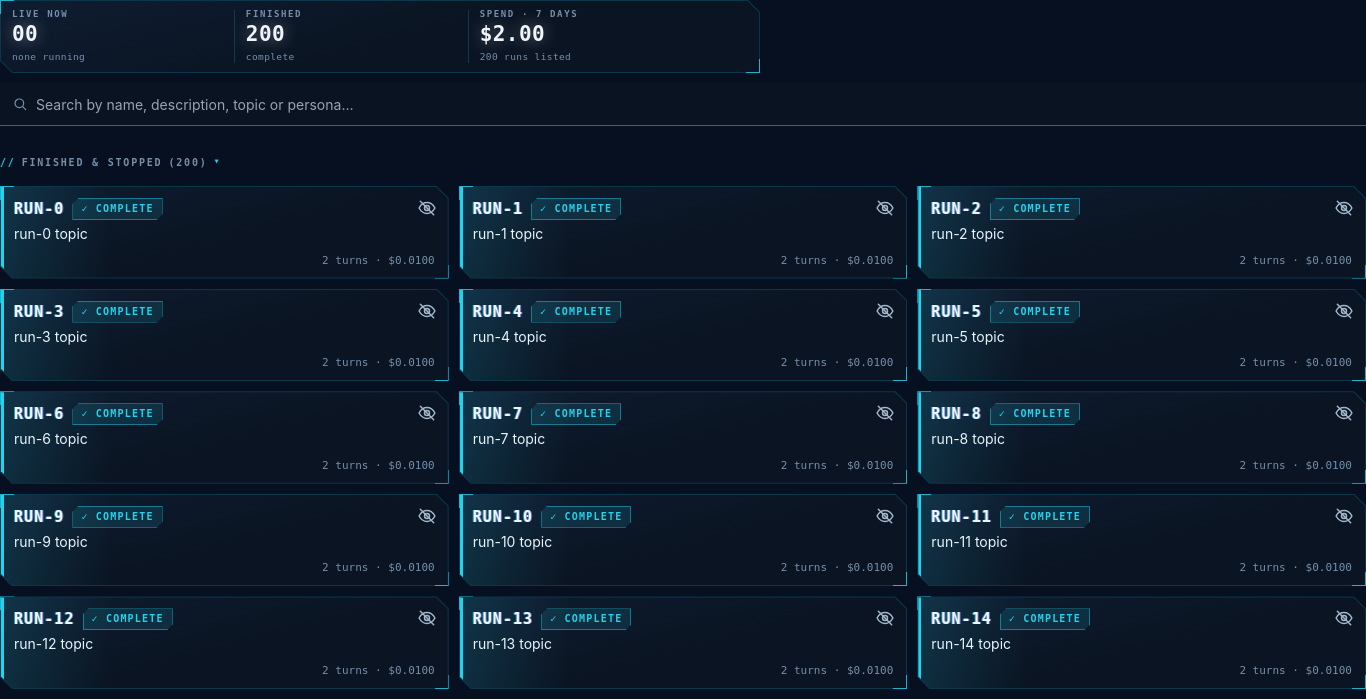
hidden runs are left out by default › from the server search a full list falls back on
Expected: the text "run-0" is shown, [14,200,64,218]
Type "old" into the search field at {"x": 695, "y": 104}, box [36,83,1354,125]
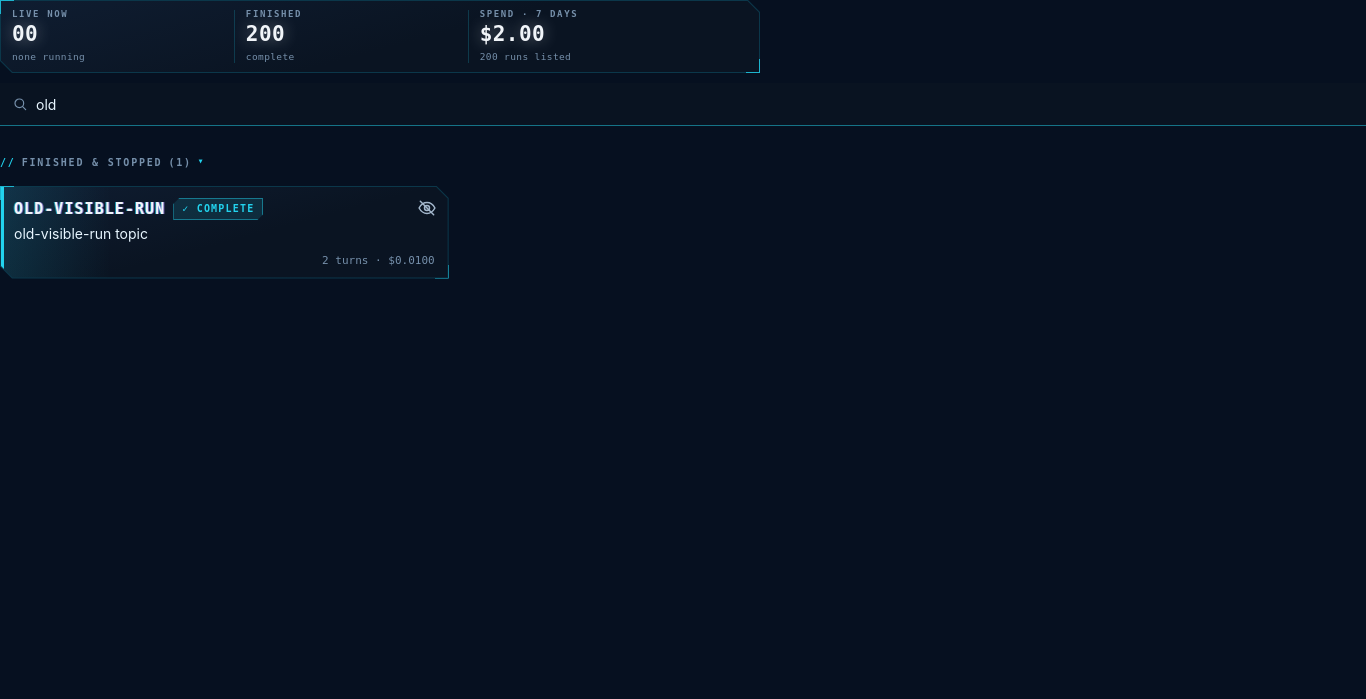
Expected: the text "old-visible-run" is shown, [14,200,165,218]
